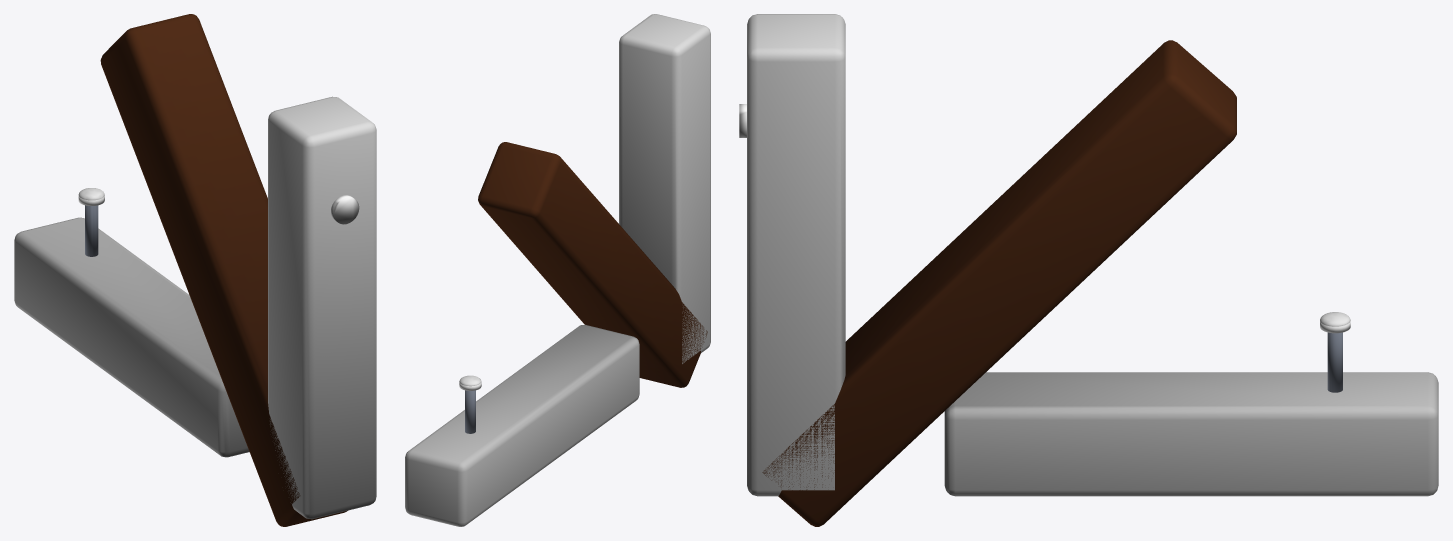
Rendered from wooden-support-bracket.obj.
3 views of the same model, side by side, from view 1: azimuth 30°, elevation 25°; view 2: azimuth 150°, elevation 25°; view 3: azimuth 270°, elevation 25° (orthographic). The views are drawn at different scales.
Parts seen in each view (by area): view 1: wooden-support-bracket; view 2: wooden-support-bracket; view 3: wooden-support-bracket.
Boxes of the visible parts, x1,y1,x2,y2 form: wooden-support-bracket: [14, 14, 376, 526]; wooden-support-bracket: [405, 14, 710, 526]; wooden-support-bracket: [739, 14, 1438, 526].
Bounding box in the file's own units: 0.11 × 0.5875 × 0.7785.
